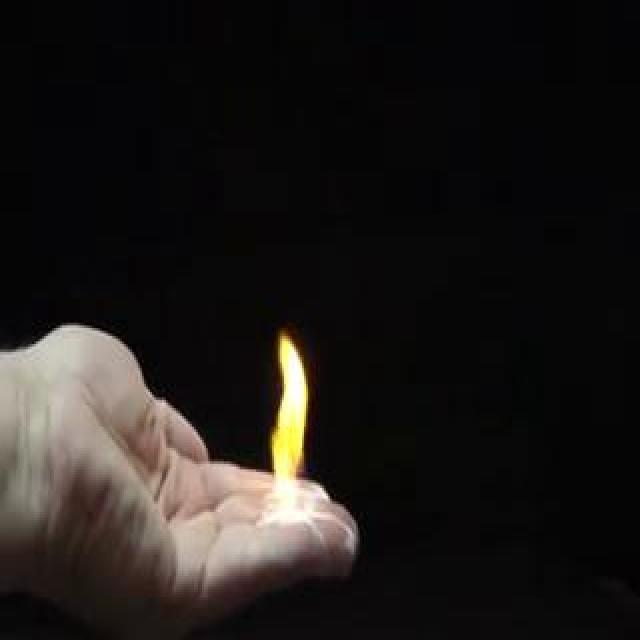Fire: (260, 403, 314, 544)
